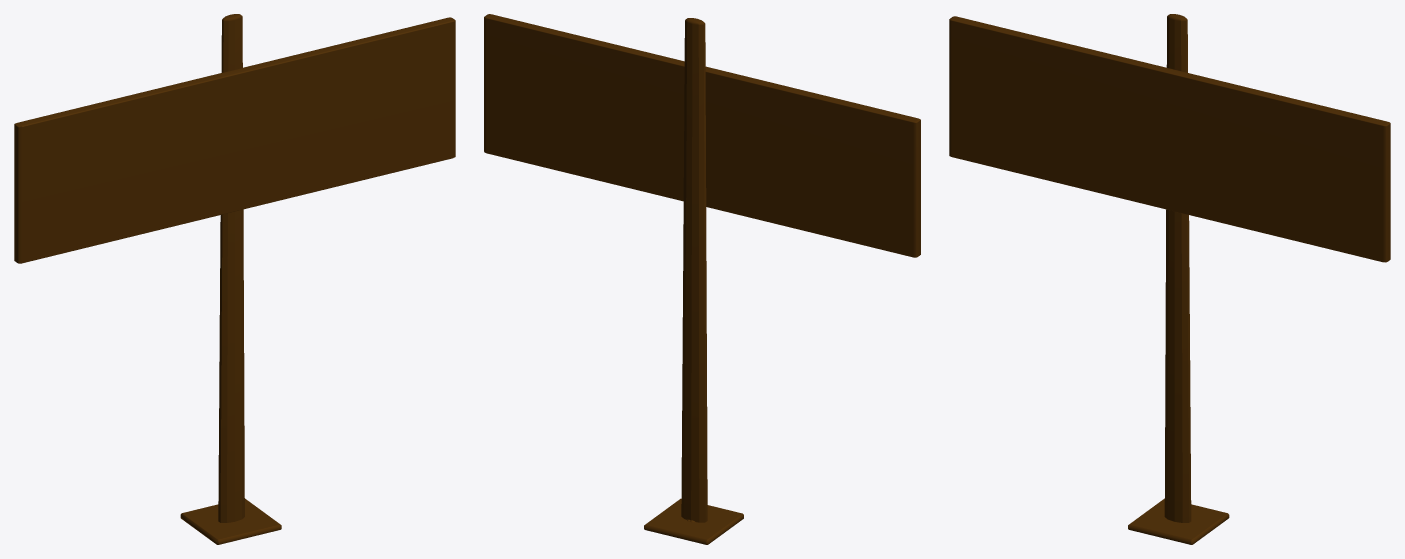
The model's file is woodsign.fbx.
3 renders of one model, left to right at view 1: azimuth 30°, elevation 25°; view 2: azimuth 150°, elevation 25°; view 3: azimuth 330°, elevation 25°, orthographic.
Visible parts, largest first — view 1: sign2, sign; view 2: sign2, sign; view 3: sign2, sign.
Boxes of the visible parts, <box> form: sign2: <box>14,17,455,263</box>; sign: <box>180,14,281,544</box>; sign2: <box>484,14,920,257</box>; sign: <box>644,18,743,544</box>; sign2: <box>949,16,1390,262</box>; sign: <box>1128,14,1229,544</box>.
Bounding box in the file's own units: 180 × 200 × 26.76.
